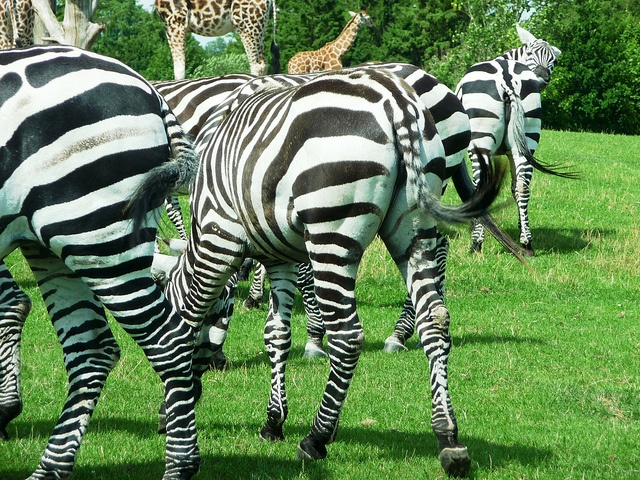zebra: (164, 60, 471, 480), (1, 46, 198, 470), (453, 21, 583, 255)
